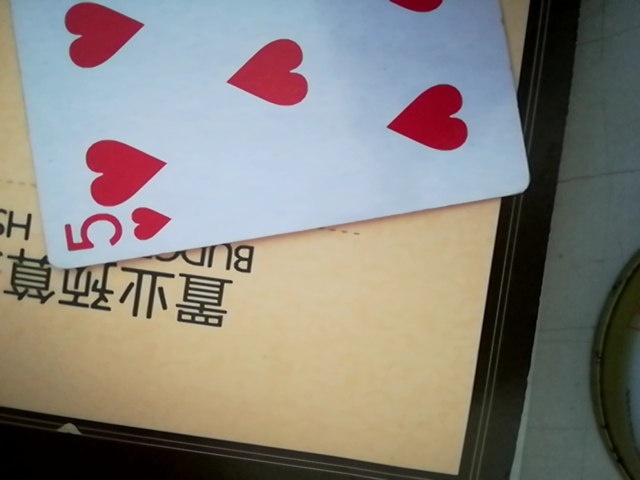hx 5: (8, 0, 537, 269)
